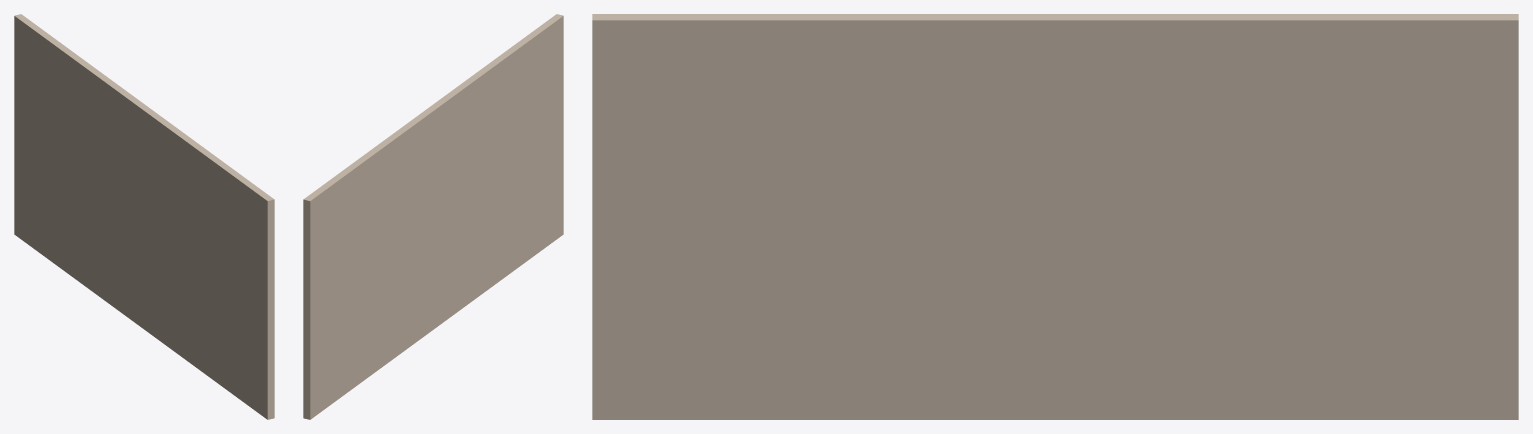
File: Room02_wall1.gltf
3 renders of one model, left to right at view 1: azimuth 30°, elevation 25°; view 2: azimuth 150°, elevation 25°; view 3: azimuth 270°, elevation 25°, orthographic. The views are drawn at different scales.
Bounding box in the file's own units: 2 × 60 × 126.
